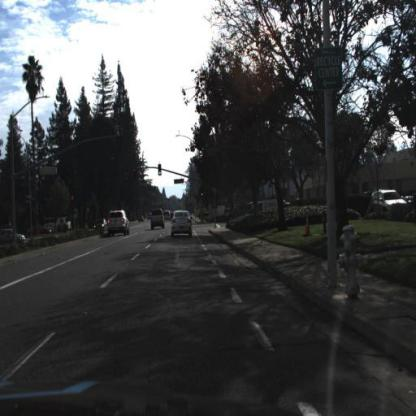car: (372, 189, 408, 218), (109, 209, 132, 237), (171, 209, 193, 237), (225, 204, 256, 222), (1, 230, 26, 248), (149, 210, 167, 233), (93, 219, 110, 236), (33, 225, 54, 238), (45, 221, 63, 234), (92, 218, 107, 231), (161, 209, 173, 223), (138, 215, 144, 223)
trafficLight-Green: (157, 163, 163, 178), (201, 189, 206, 203), (201, 187, 206, 200), (159, 163, 163, 176)
trafficLight-RedLeft: (70, 195, 76, 212), (132, 165, 137, 180), (134, 167, 139, 182), (71, 195, 76, 208)
truck: (57, 217, 72, 231)
